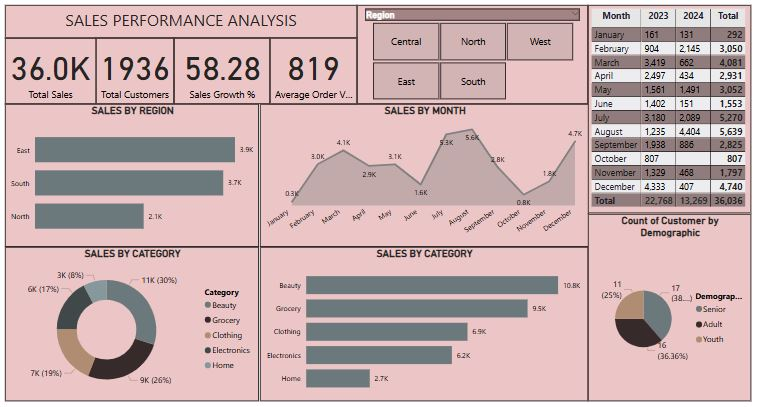

What the dashboard file says about the page in this screenshot:
{"tool":"powerbi","page":{"name":"OVERVIEW OF SALES","canvas":[1280,720],"ordinal":0},"visuals":[{"type":"card","fields":{"Values":["SalesData.Total Sales"]},"box":[16.7,68.3,151.7,110],"z":0},{"type":"card","fields":{"Values":["Sum(SalesData.Total Customers)"]},"box":[168.3,68.3,130,110],"z":1000},{"type":"card","fields":{"Values":["SalesData.Sales Growth %"]},"box":[298.3,68.3,160,110],"z":2000},{"type":"barChart","title":"SALES BY REGION","fields":{"Y":["Sum(SalesData.SalesAmount)"],"Category":["SalesData.Region"]},"box":[16.7,178.3,423.3,238.3],"z":3000},{"type":"donutChart","title":"SALES BY CATEGORY","fields":{"Category":["ProductData.Category"],"Y":["Sum(SalesData.SalesAmount)"]},"box":[16.7,416.7,423.3,256.7],"z":4000},{"type":"textbox","box":[16.7,13.3,586.7,55],"z":5000},{"type":"slicer","fields":{"Values":["SalesData.Region"]},"box":[603.3,13.3,385,165],"z":5001},{"type":"lineChart","title":"SALES BY MONTH","fields":{"Category":["SalesData.Date.Variation.Date Hierarchy.Month"],"Y":["SalesData.Total Sales"]},"box":[441.7,178.3,548.3,238.3],"z":5002},{"type":"pivotTable","fields":{"Rows":["SalesData.Date.Variation.Date Hierarchy.Month"],"Columns":["SalesData.Date.Variation.Date Hierarchy.Year"],"Values":["Sum(SalesData.SalesAmount)"]},"box":[988.3,13.3,271.7,346.7],"z":5003},{"type":"barChart","title":"SALES BY CATEGORY","fields":{"Category":["ProductData.Category"],"Y":["Sum(SalesData.SalesAmount)"]},"box":[441.7,416.7,546.7,256.7],"z":5004},{"type":"card","fields":{"Values":["SalesData.Average Order Value"]},"box":[458.3,68.3,145,110],"z":5005},{"type":"pieChart","title":"Count of Customer by Demographic","fields":{"Category":["CustomerData.Demographic"],"Y":["CountNonNull(SalesData.CustomerID)"]},"box":[988.3,361.7,271.7,311.7],"z":5006}]}

Visuals, with their boxes on the page's 1280x720 design canvas (x1, y1, x2, y2). These are canvas units, not pixel positions in the 757x407 screenshot, which may show the page scaled, cropped or inside an application window:
card - SalesData.Total Sales: (left=17, top=68, right=168, bottom=178)
card - Sum(SalesData.Total Customers): (left=168, top=68, right=298, bottom=178)
card - SalesData.Sales Growth %: (left=298, top=68, right=458, bottom=178)
"SALES BY REGION" barChart: (left=17, top=178, right=440, bottom=417)
"SALES BY CATEGORY" donutChart: (left=17, top=417, right=440, bottom=673)
textbox: (left=17, top=13, right=603, bottom=68)
slicer - SalesData.Region: (left=603, top=13, right=988, bottom=178)
"SALES BY MONTH" lineChart: (left=442, top=178, right=990, bottom=417)
pivotTable - SalesData.Date.Variation.Date Hierarchy.Month x SalesData.Date.Variation.Date Hierarchy.Year: (left=988, top=13, right=1260, bottom=360)
"SALES BY CATEGORY" barChart: (left=442, top=417, right=988, bottom=673)
card - SalesData.Average Order Value: (left=458, top=68, right=603, bottom=178)
"Count of Customer by Demographic" pieChart: (left=988, top=362, right=1260, bottom=673)
